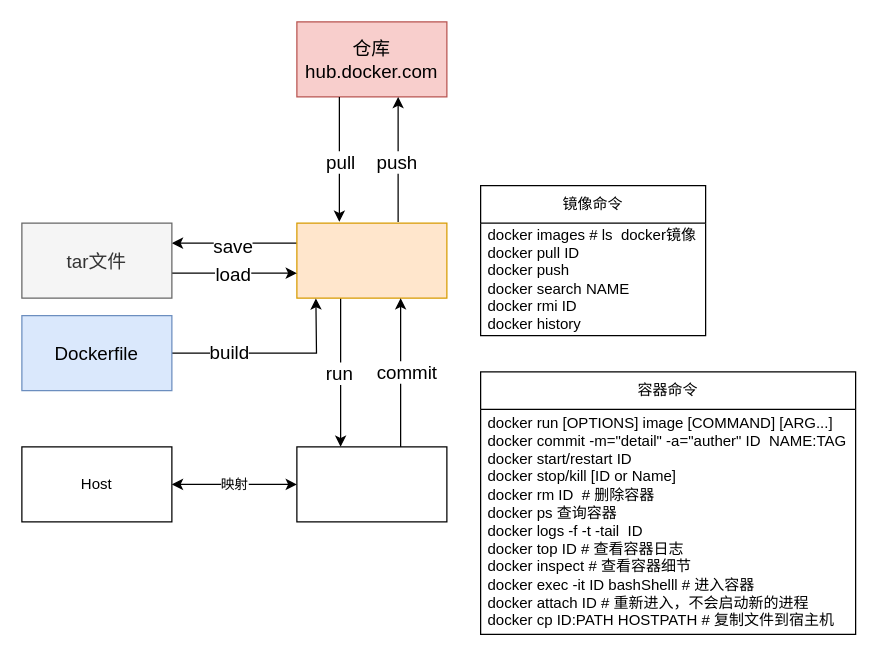
Image size: 878x656. Some labels were removed from this diagram. Here are the shapes that lost their labels. From the top down, the centre of each, then its label:
point 371,260: 镜像 image
point 371,484: 容器 container
